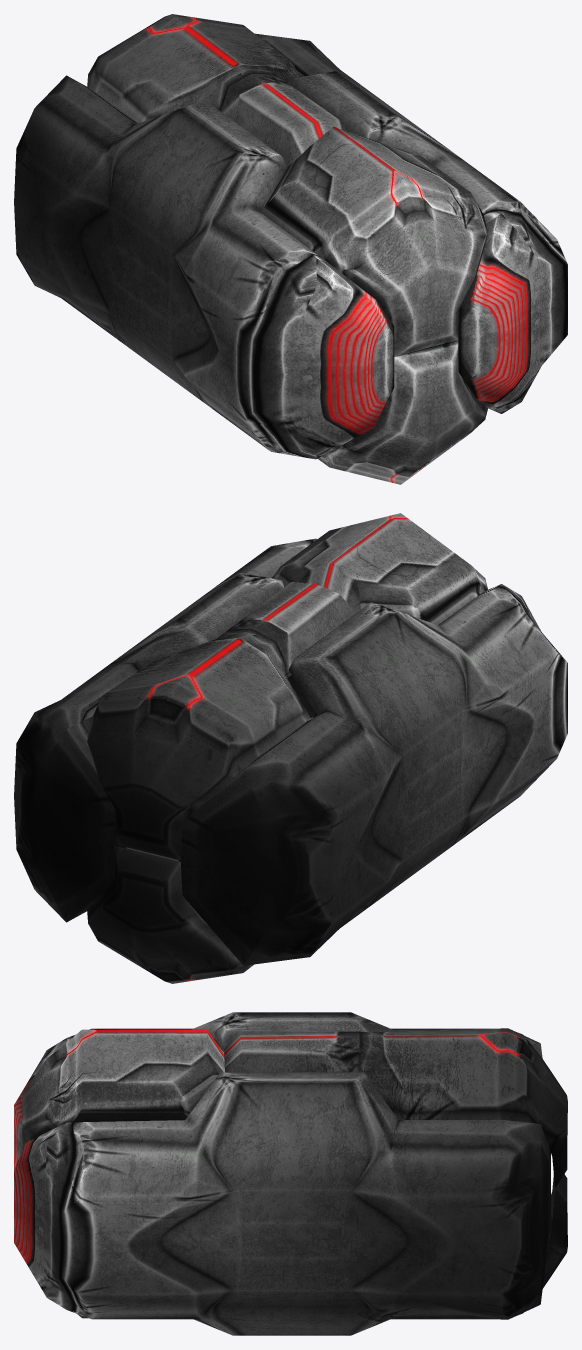
The model's file is pod.fbx.
The picture shows the model from 3 angles, top to bottom: view 1: azimuth 30°, elevation 25°; view 2: azimuth 150°, elevation 25°; view 3: azimuth 270°, elevation 25°; orthographic projection. The views are drawn at different scales.
Parts seen in each view (by area): view 1: pod; view 2: pod; view 3: pod.
Boxes of the visible parts, x1=… form: pod: x1=14, y1=14, x2=567, y2=484; pod: x1=14, y1=513, x2=567, y2=983; pod: x1=14, y1=1012, x2=567, y2=1335.
Size of the model in its own units: 2.05 by 1.91 by 3.33.
